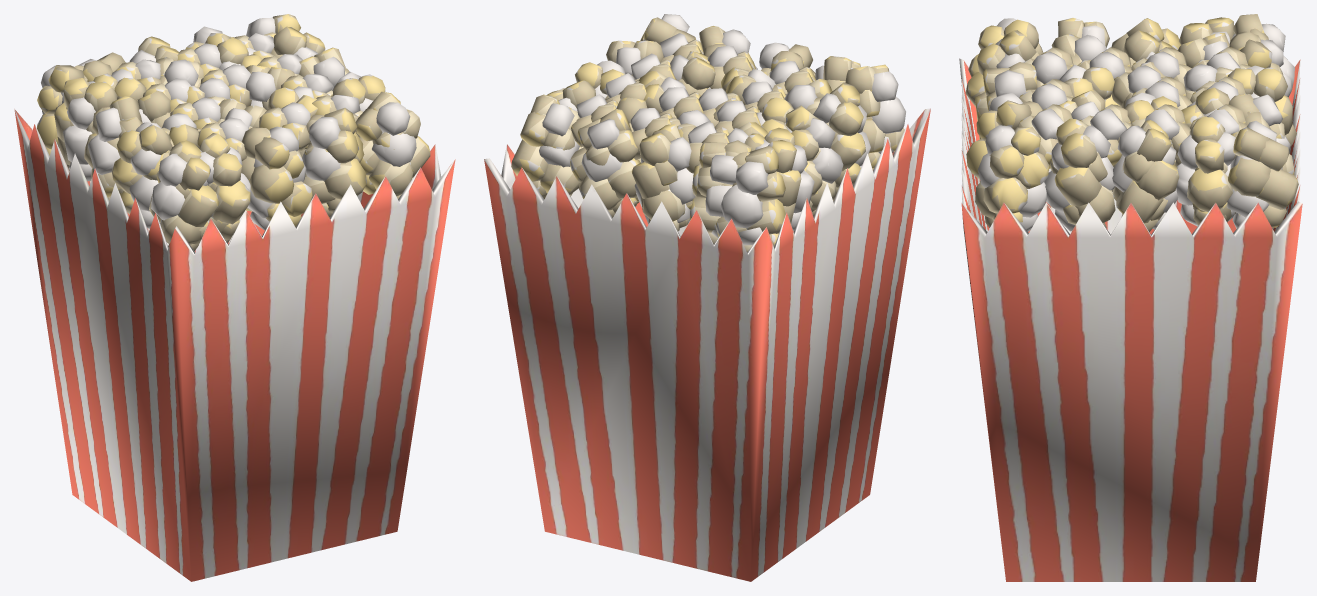
Rendered from popcorn.-Z07VCM3.glb.
3 renders of one model, left to right at view 1: azimuth 30°, elevation 25°; view 2: azimuth 150°, elevation 25°; view 3: azimuth 270°, elevation 25°, orthographic. The views are drawn at different scales.
Parts seen in each view (by area): view 1: showpiece_popcorn; view 2: showpiece_popcorn; view 3: showpiece_popcorn.
Part boxes in pixels (x1=…): showpiece_popcorn: x1=14, y1=14, x2=455, y2=581; showpiece_popcorn: x1=484, y1=14, x2=930, y2=581; showpiece_popcorn: x1=959, y1=14, x2=1302, y2=581.
Size of the model in its own units: 0.6791 by 1 by 0.6791.
Materials: 1 (1 with a texture image).
